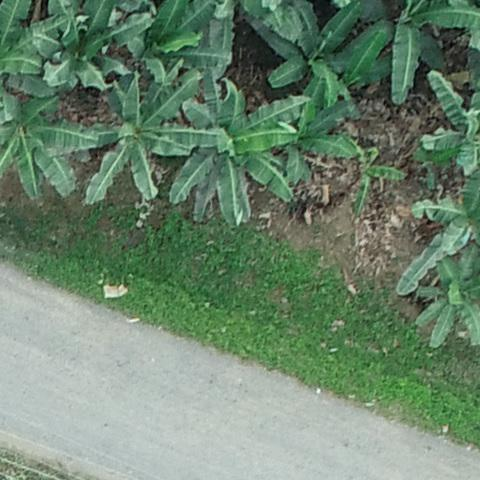Banana-plant: (174, 86, 285, 222), (80, 77, 189, 206), (257, 7, 376, 124), (353, 1, 472, 106), (37, 1, 142, 95), (3, 92, 87, 209), (127, 0, 223, 89), (356, 0, 448, 92), (417, 70, 480, 176), (410, 159, 480, 251), (415, 256, 480, 351), (333, 128, 402, 209)
